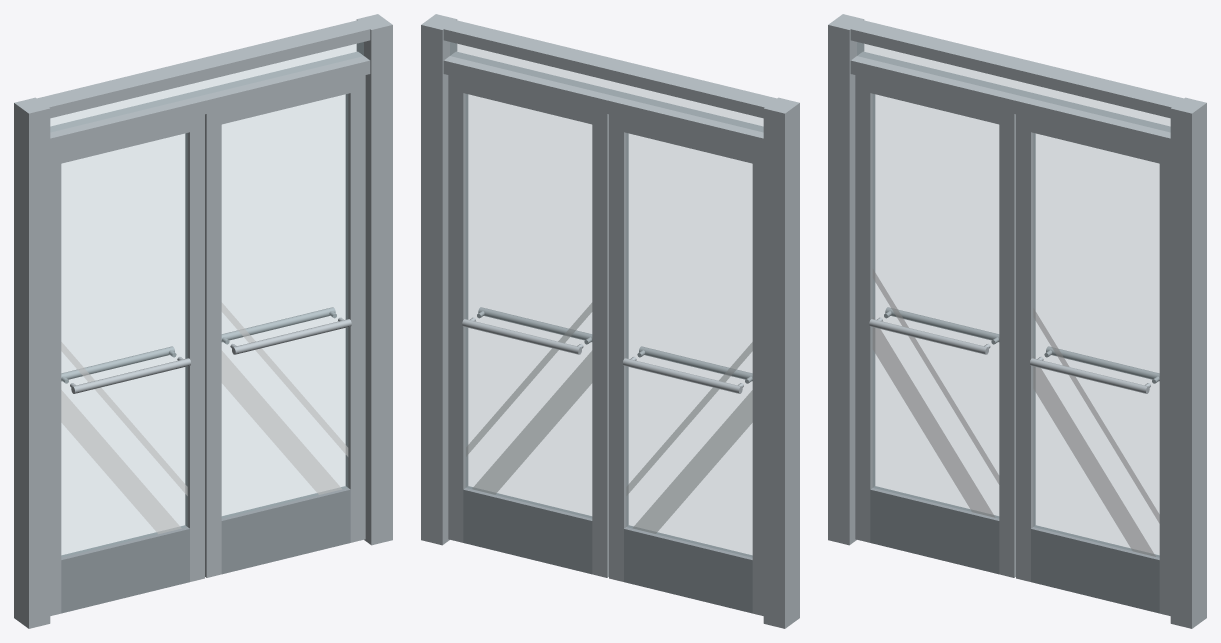
File: SM_StorefrontDoor.glb
3 renders of one model, left to right at view 1: azimuth 30°, elevation 25°; view 2: azimuth 150°, elevation 25°; view 3: azimuth 330°, elevation 25°, orthographic.
Parts seen in each view (by area): view 1: Leaf_R, Leaf_L, SM_StorefrontDoor, Glass_Transom; view 2: Leaf_R, Leaf_L, SM_StorefrontDoor, Glass_Transom; view 3: Leaf_L, Leaf_R, SM_StorefrontDoor, Glass_Transom.
Part boxes in pixels (box(x1,y1,x2,y2)): Leaf_R: box(205, 75, 365, 577); Leaf_L: box(50, 114, 204, 615); SM_StorefrontDoor: box(14, 14, 392, 628); Glass_Transom: box(50, 42, 363, 131); Leaf_R: box(448, 75, 608, 577); Leaf_L: box(609, 114, 763, 615); SM_StorefrontDoor: box(421, 14, 799, 628); Glass_Transom: box(450, 42, 763, 131); Leaf_L: box(855, 75, 1015, 577); Leaf_R: box(1016, 114, 1170, 615); SM_StorefrontDoor: box(828, 14, 1206, 628); Glass_Transom: box(857, 42, 1170, 131).
Bounding box in the file's own units: 1.7 × 2.3 × 0.1604.
4 materials, 4 textured.
